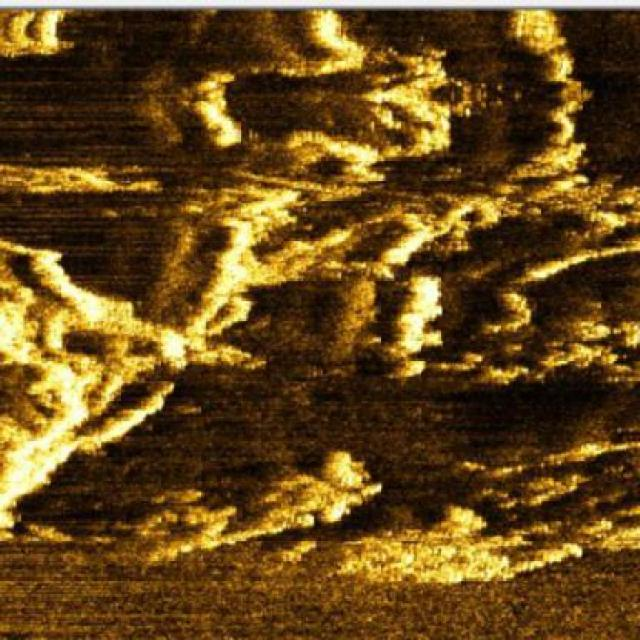bedrock group: (0, 4, 638, 583)
